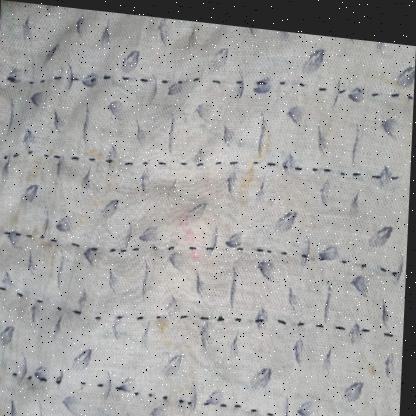spot: (168, 189, 211, 275), (233, 114, 271, 190), (77, 174, 115, 230), (154, 301, 171, 342), (86, 135, 105, 165), (249, 400, 267, 416)
